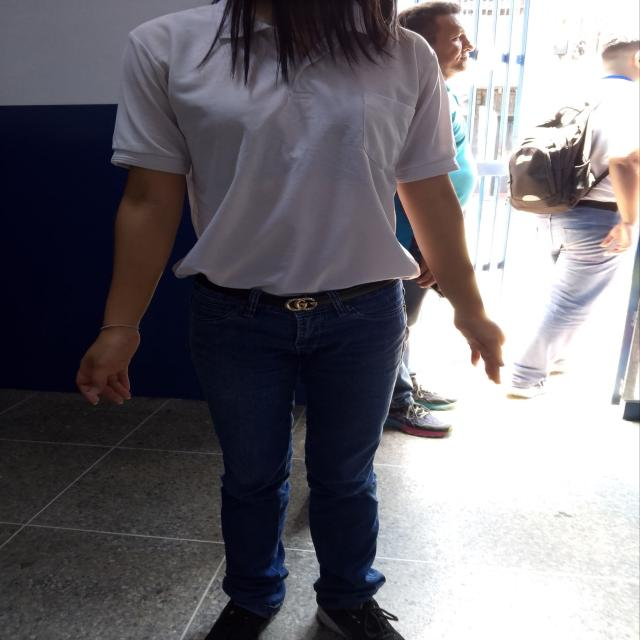pantalon_oscuro: (187, 280, 408, 613)
